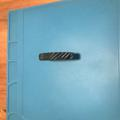gear: (38, 51, 82, 62)
